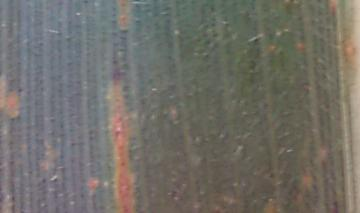tarspot: (329, 200, 342, 212)
